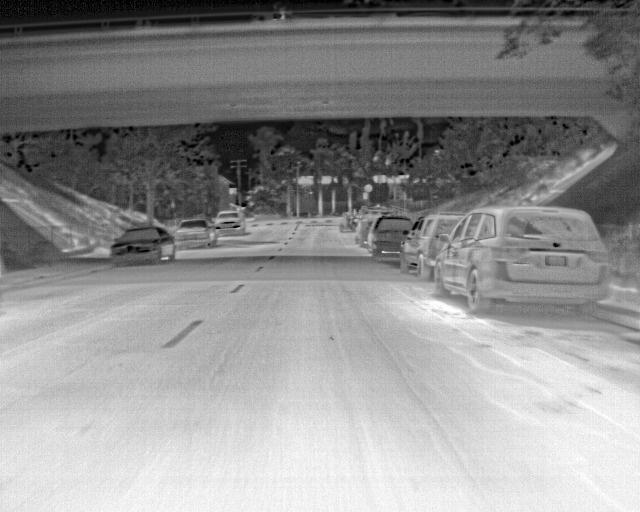car: (436, 206, 609, 316), (396, 213, 463, 281), (110, 225, 174, 268), (369, 216, 412, 256), (176, 217, 219, 249), (353, 212, 382, 245), (214, 209, 246, 235), (336, 210, 356, 232)
